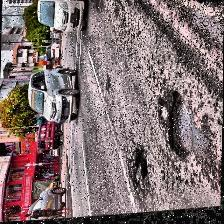pothole: (162, 92, 198, 160), (125, 145, 154, 183)
